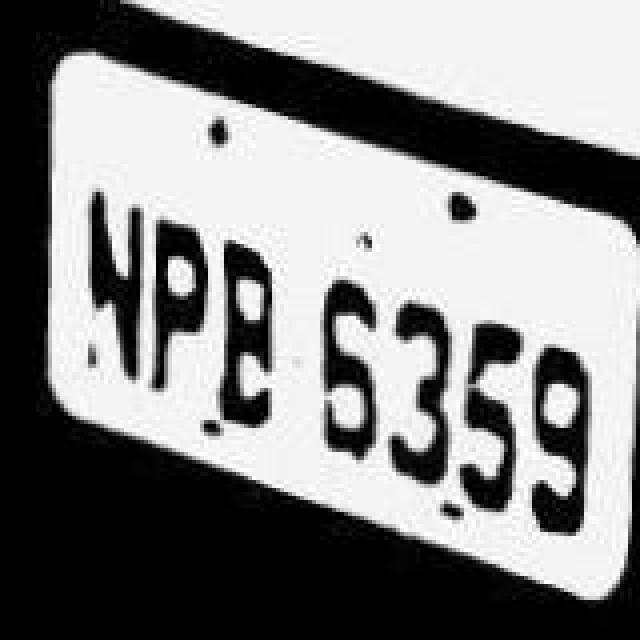3: (382, 280, 458, 504)
5: (448, 278, 520, 518)
6: (304, 268, 384, 500)
9: (520, 314, 596, 546)
B: (204, 228, 284, 432)
N: (78, 144, 146, 396)
P: (138, 206, 214, 406)
